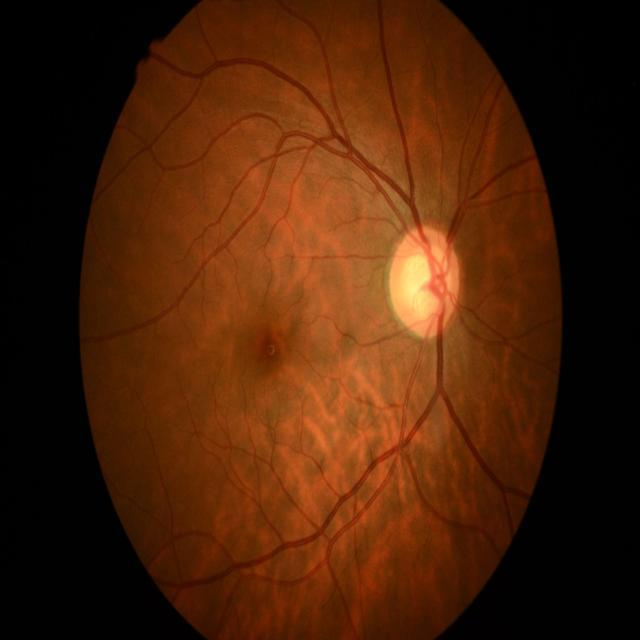cup: (409, 244, 449, 320)
disk: (389, 222, 461, 338)
